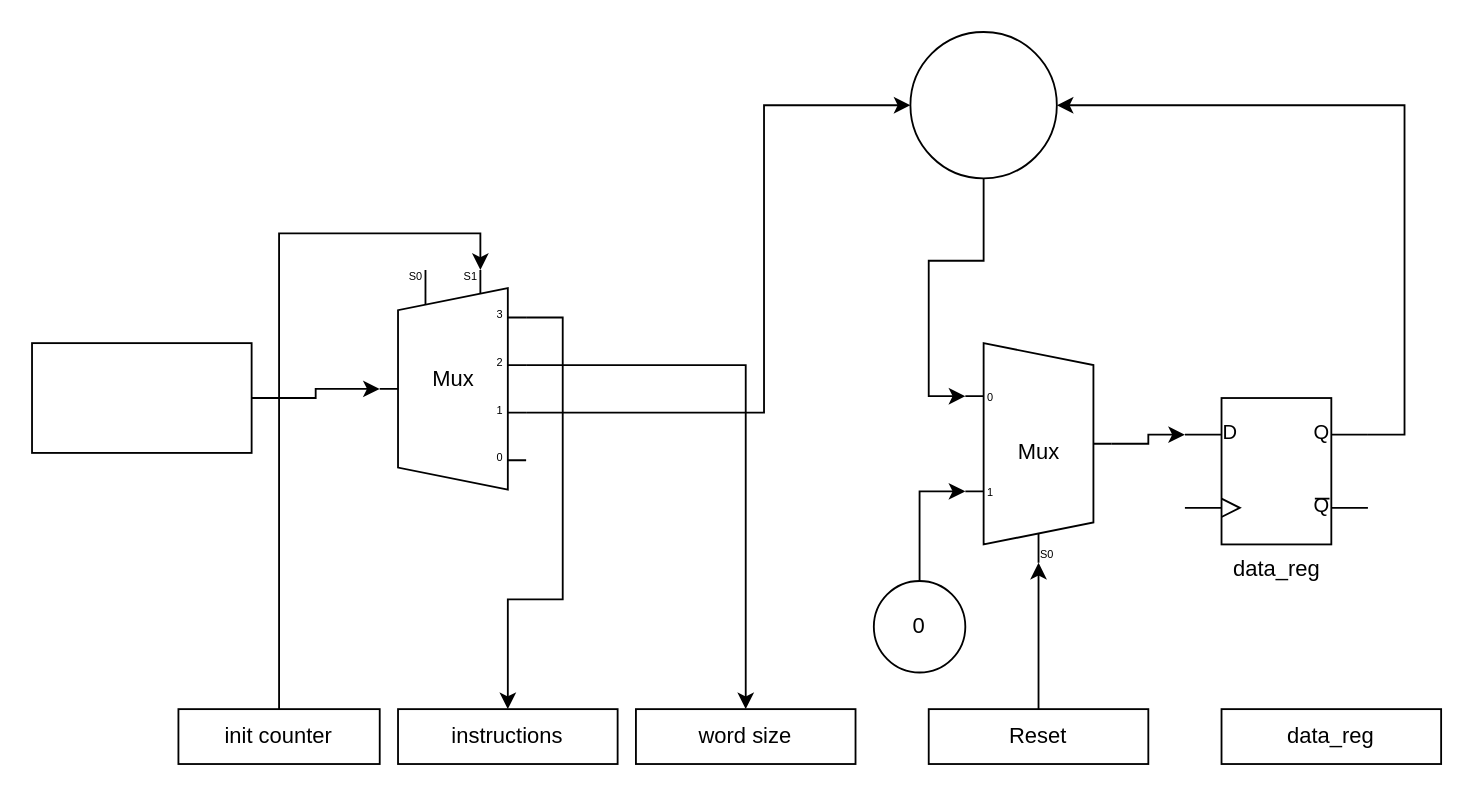
Some shapes in this 1473 by 796 pixel diagram are drawn without their labels. The shapes that lost their labels are listed below. From the top down, each one's centre as x and y in pixels, then its label:
At [983,104]: "{ data , data_reg}".
At [141,397]: "data".
